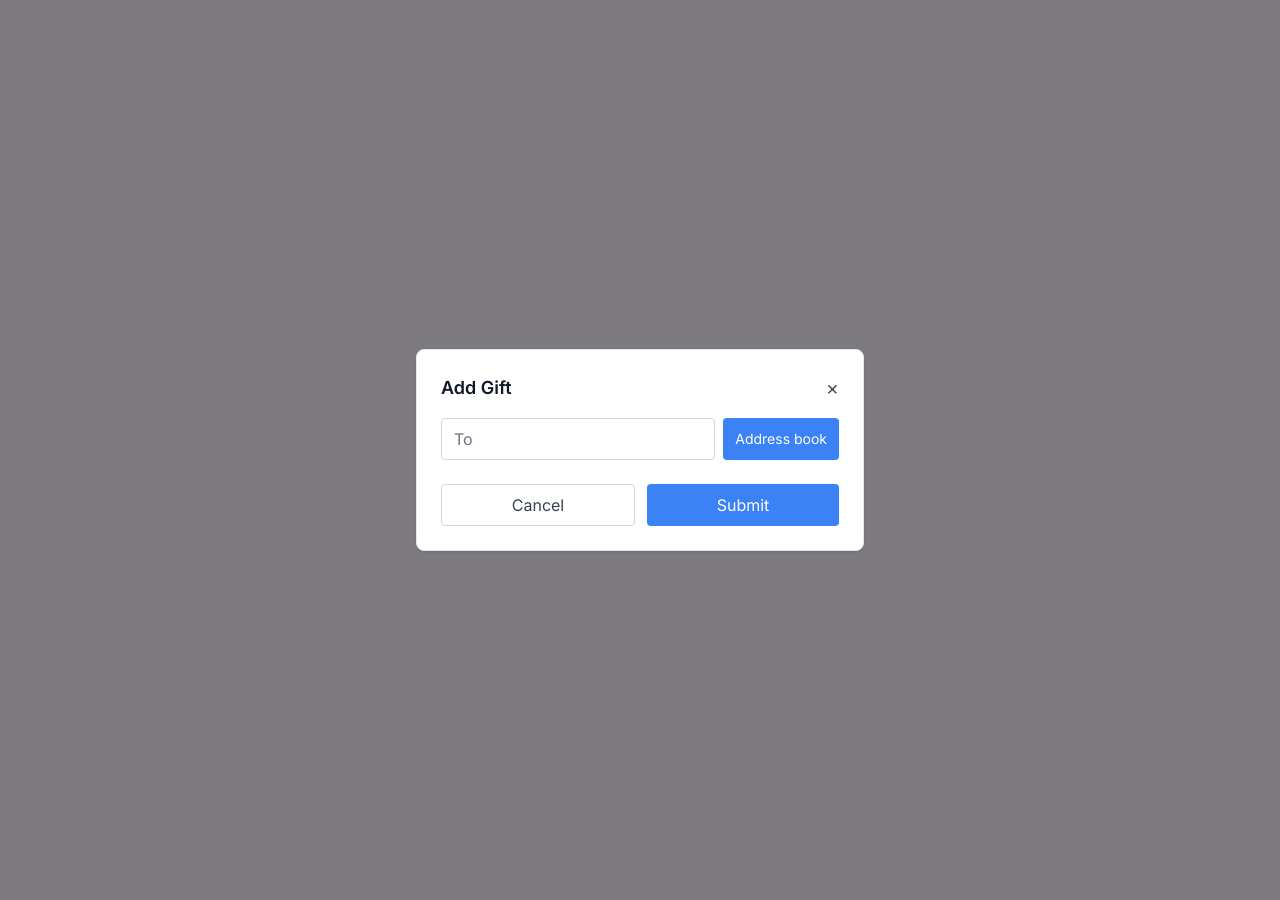
Test: FormModal › address book › picking a contact on a recipient-only form fills the recipient
The width and height of the screenshot is (1280, 900).
Step 1. Click the button "Address book" → (781, 439), box x1=723 y1=418 x2=839 y2=460
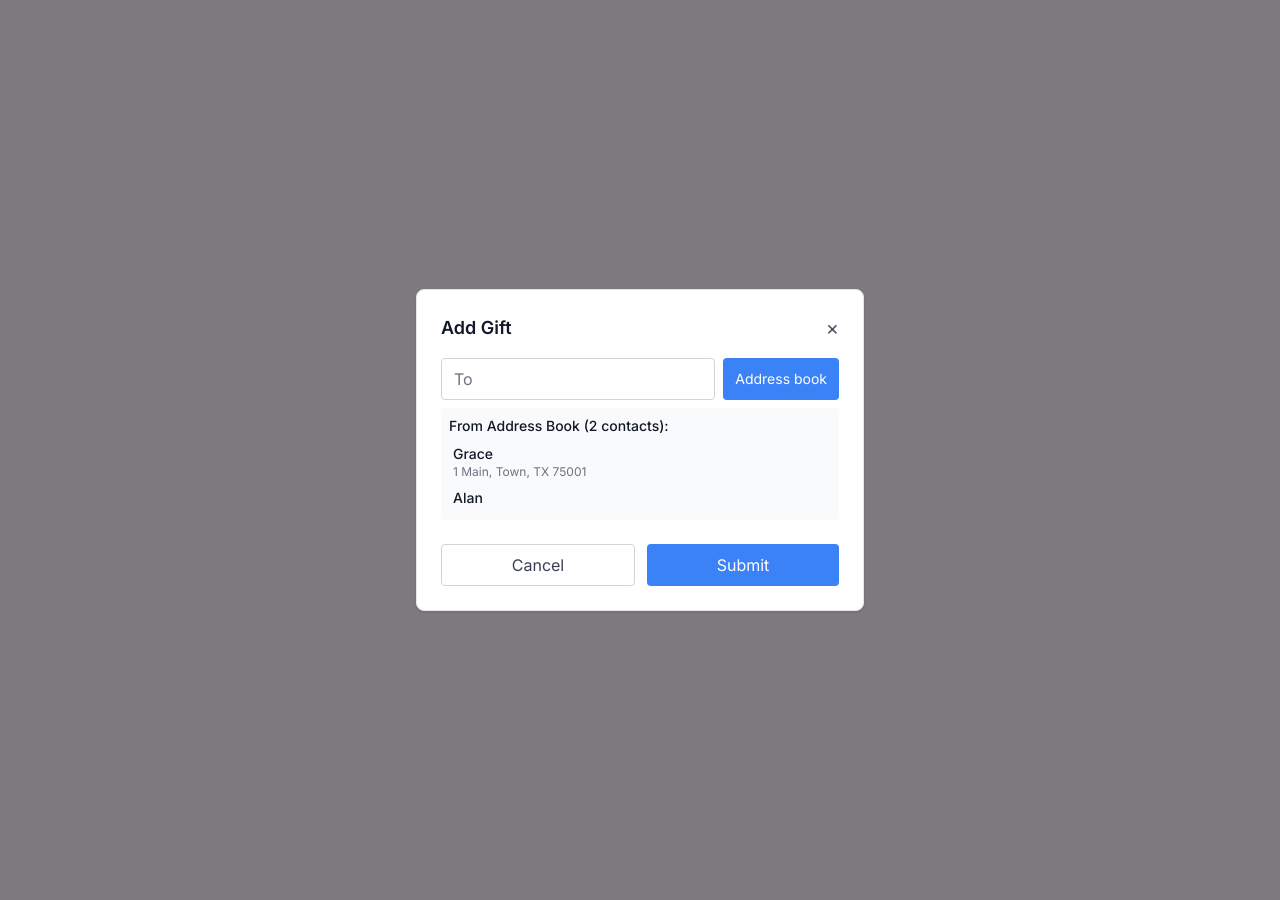
Step 2. Click the button "Alan" → (468, 498), box x1=449 y1=484 x2=831 y2=512
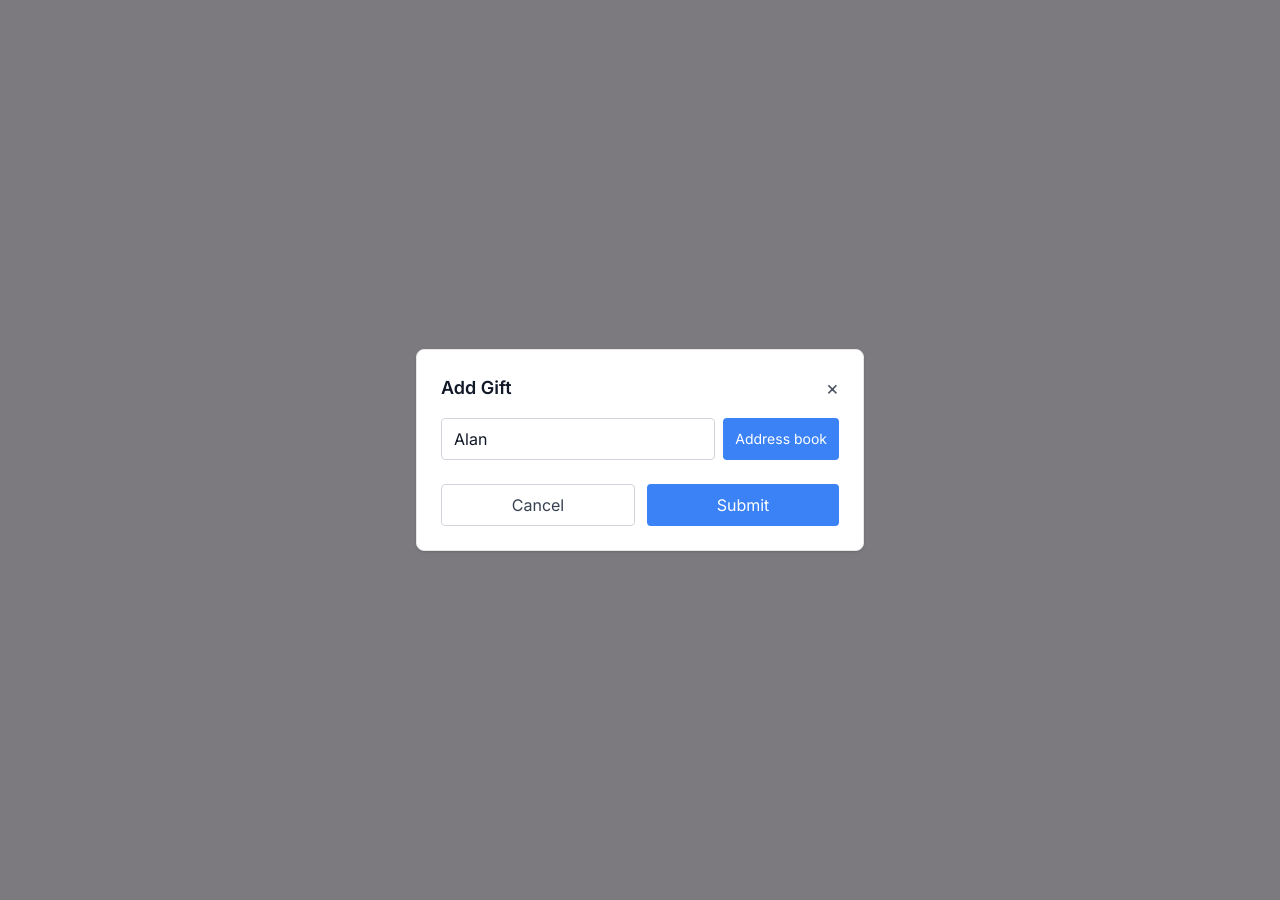
expect the field with placeholder "To" holds "Alan": met, box x1=441 y1=418 x2=715 y2=460
